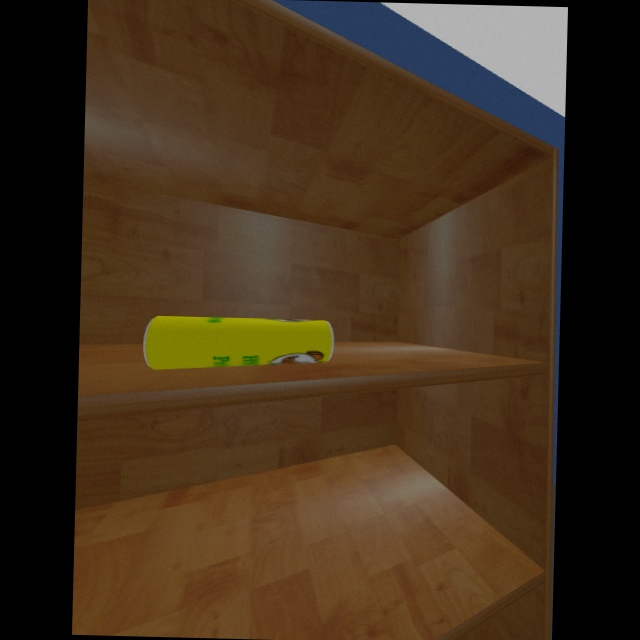chipsdose_gelb: (143, 315, 334, 370)
